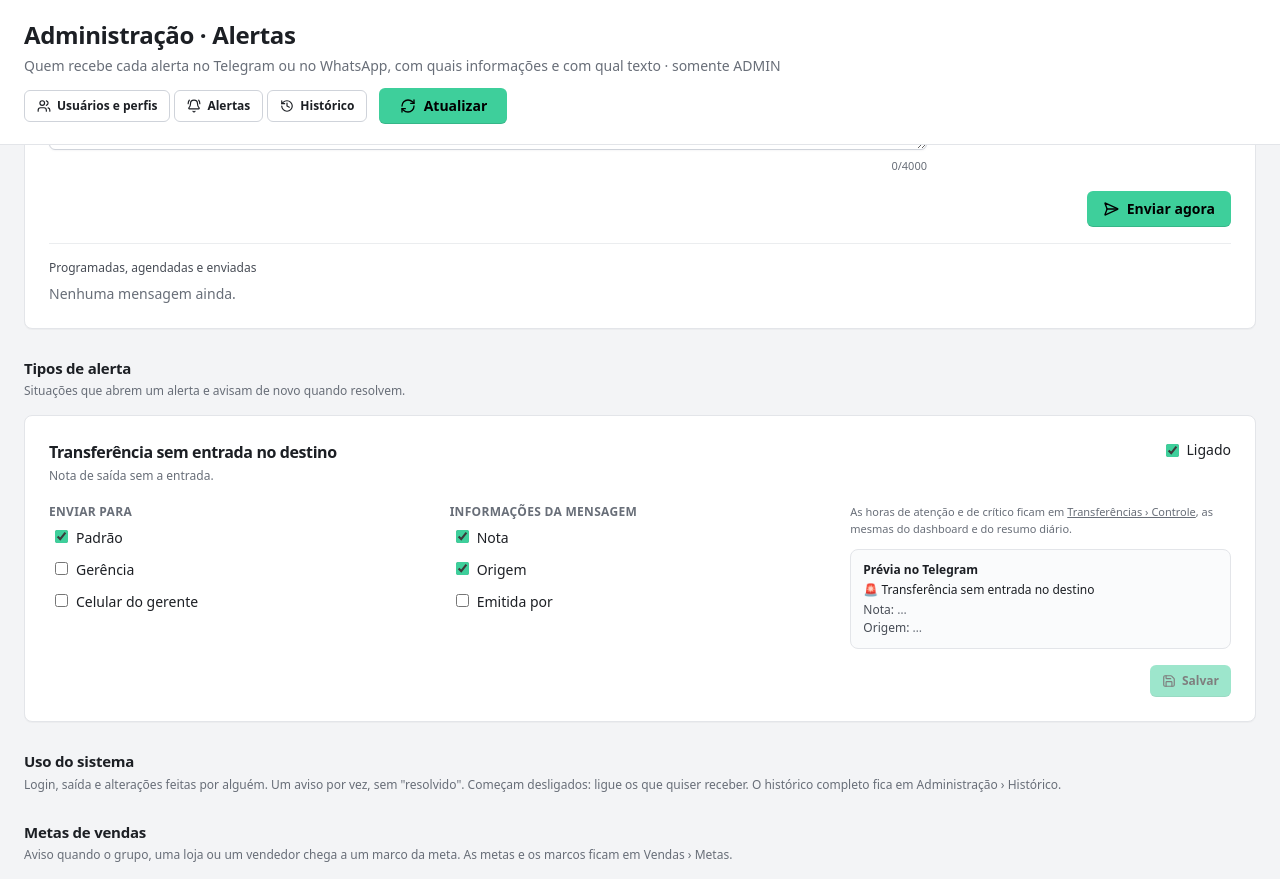
Test: AdminAlertasPage › mostra o erro de validação da API na regra
This screenshot has width=1280, height=879.
(page scrolled)
What coordinates should you click on to do the following:
click the checkbox labelled "Ligado"
I would click on:
 (1172, 450)
Its box is [1166,444,1178,456].
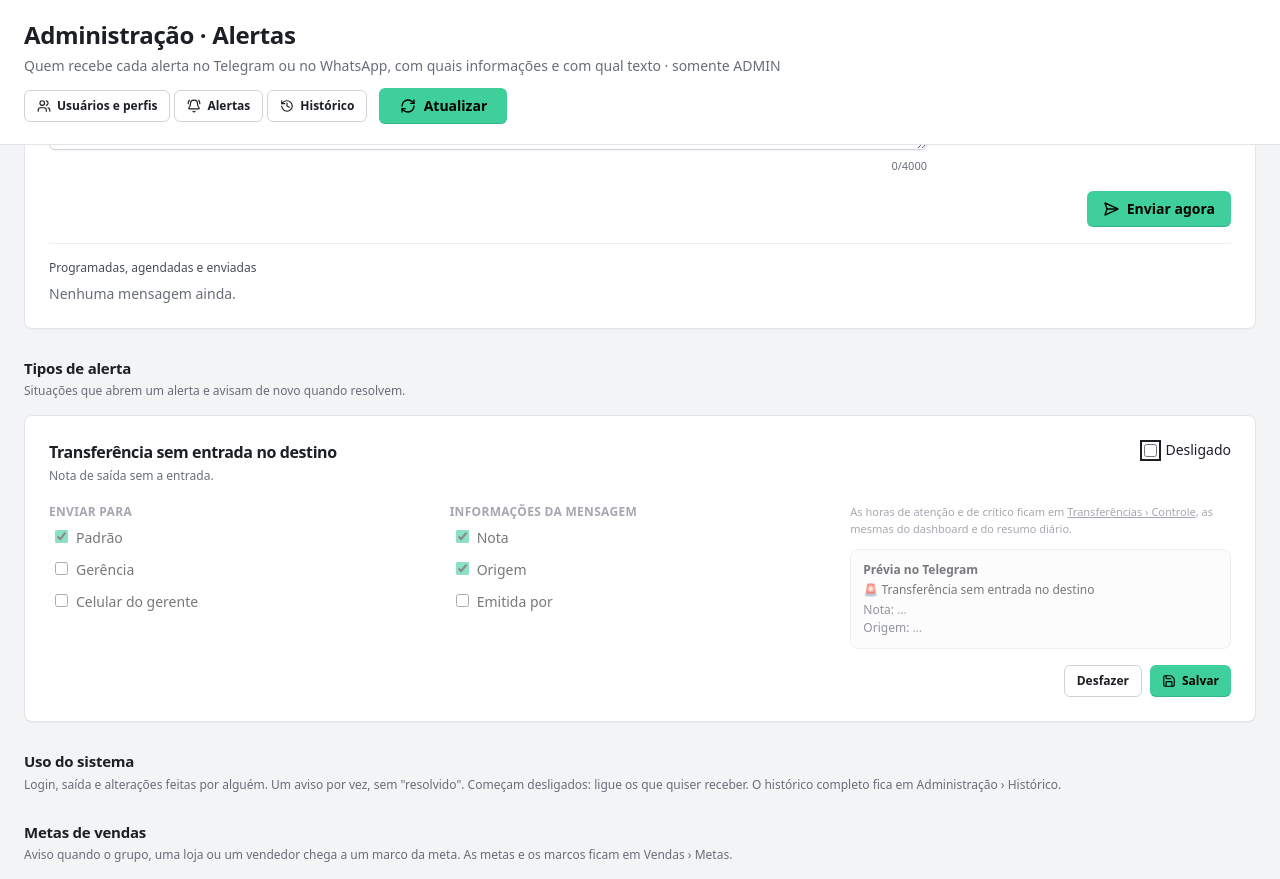
What coordinates should you click on to do the following:
click the button "Salvar"
I would click on:
 (1190, 681)
Its box is [1150,665,1231,697].
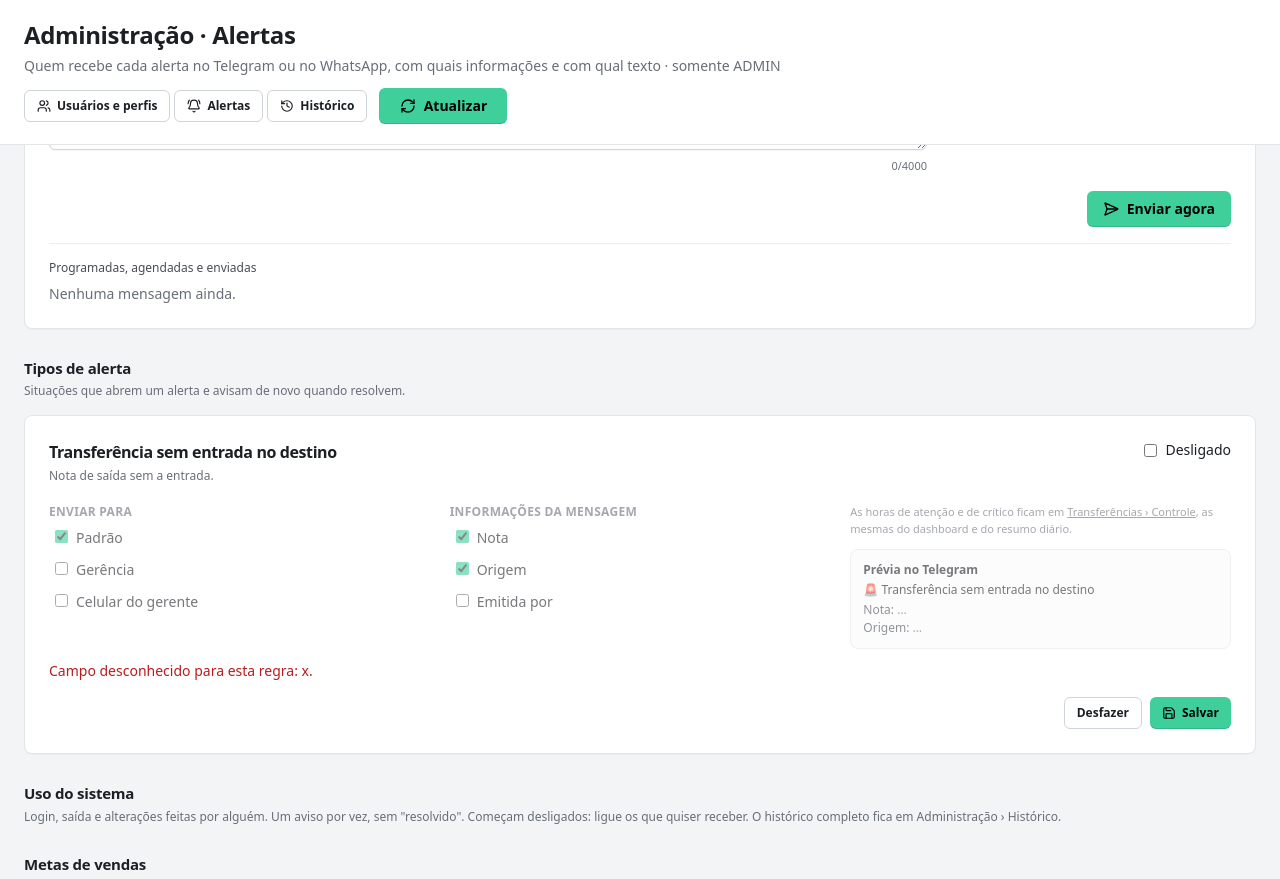
expect the message shows "Campo desconhecido": met, box [49,661,313,680]
